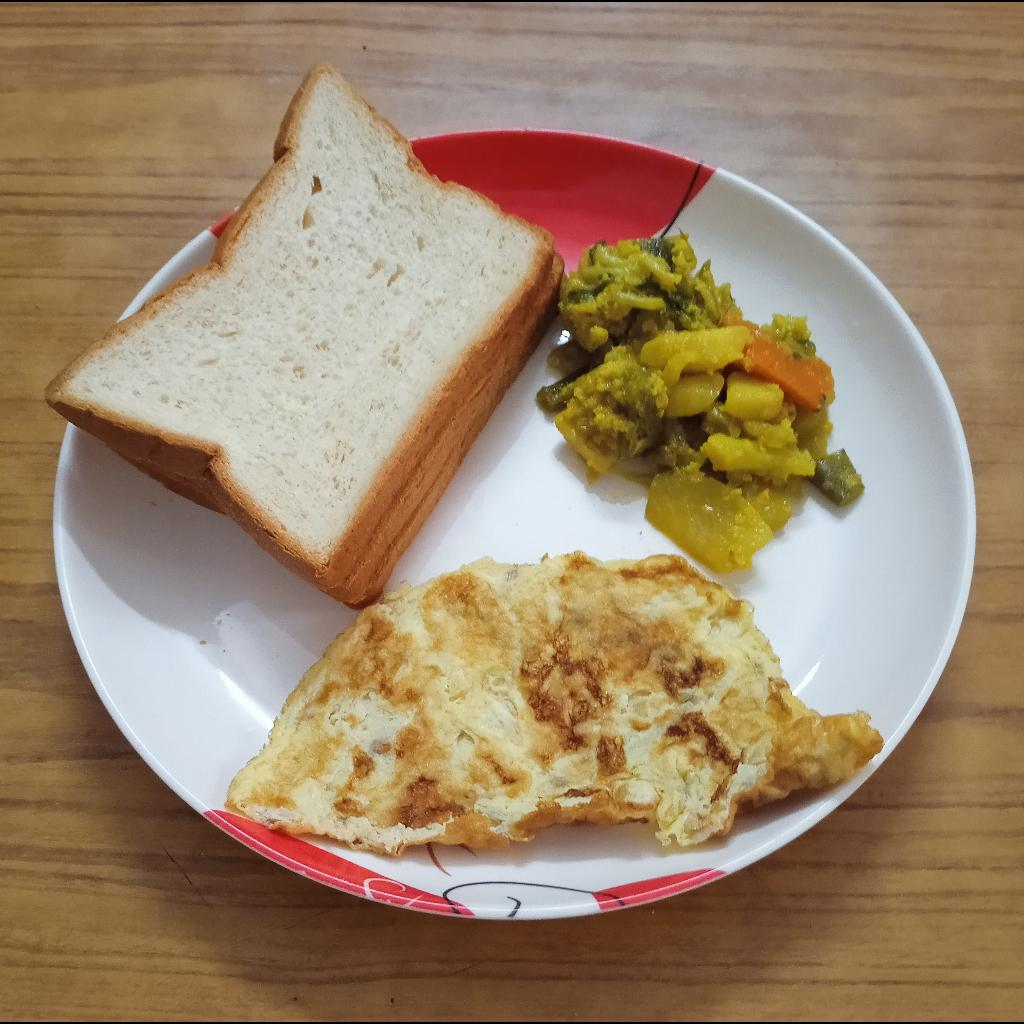bread: (41, 66, 568, 613)
egg-poached: (224, 549, 885, 858)
vegetable: (535, 234, 870, 572)
